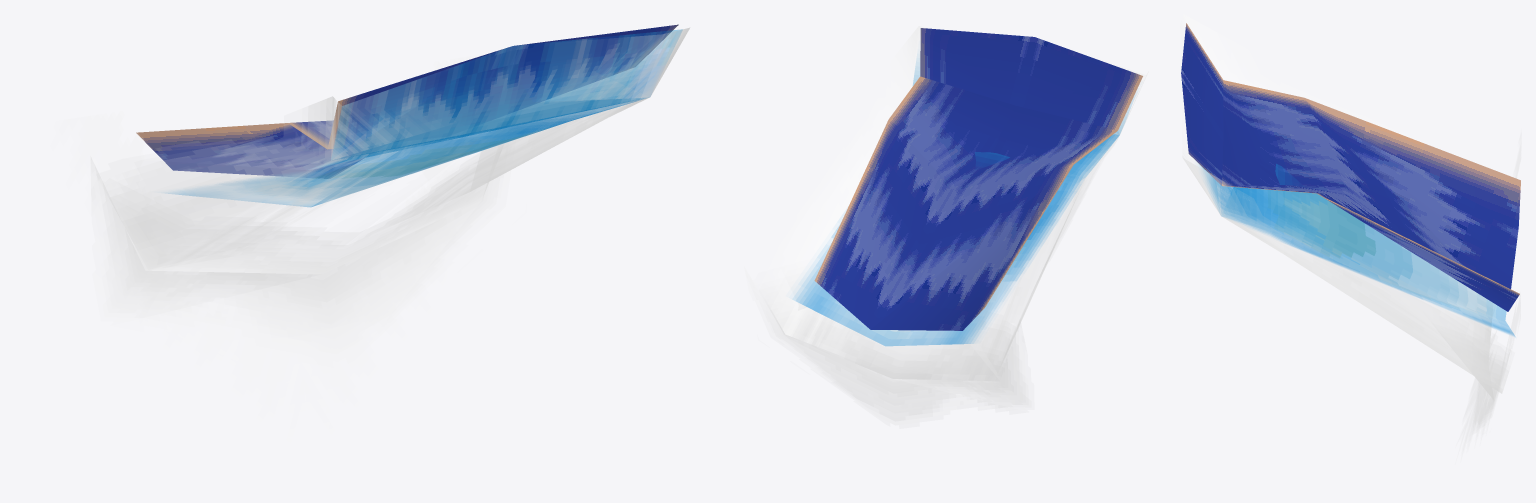
File: c_grd_fall1.001.glb
3 views of the same model, side by side, from view 1: azimuth 30°, elevation 25°; view 2: azimuth 150°, elevation 25°; view 3: azimuth 270°, elevation 25° (orthographic). The views are drawn at different scales.
Visible parts, largest first — view 1: c_grd_fall1.001; view 2: c_grd_fall1.001; view 3: c_grd_fall1.001.
Boxes of the visible parts, box(x1,y1,x2,y2) form: c_grd_fall1.001: box(59, 24, 690, 412); c_grd_fall1.001: box(744, 26, 1148, 424); c_grd_fall1.001: box(1180, 14, 1521, 450).
Size of the model in its own units: 9.25 by 9.47 by 6.97.
Materials: 7 (7 with a texture image).
